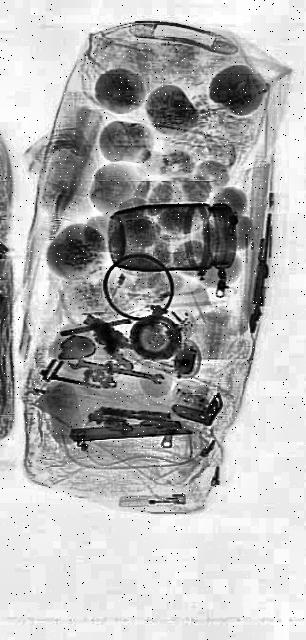Wrench: (66, 356, 162, 388)
